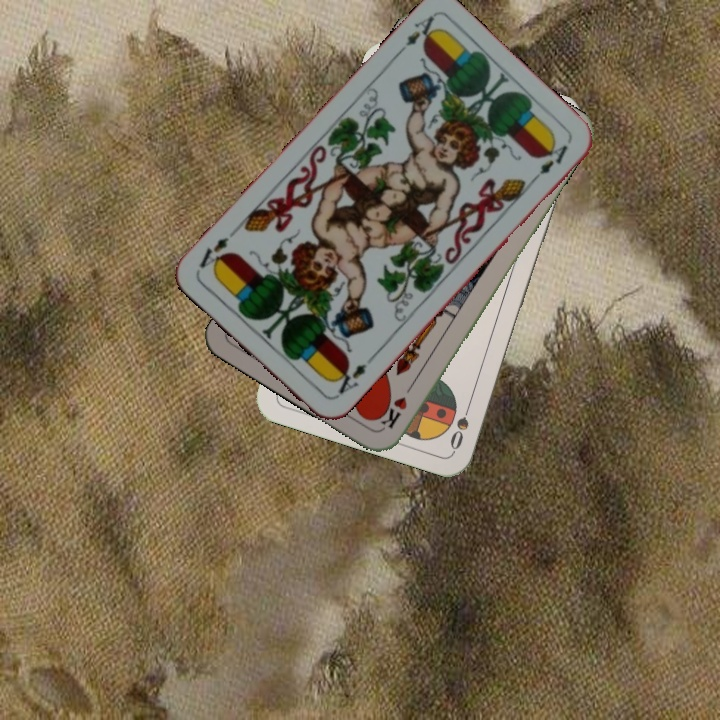EA: (392, 11, 442, 59), (329, 352, 376, 401)
HK: (376, 378, 418, 431)
SO: (445, 395, 475, 453)
